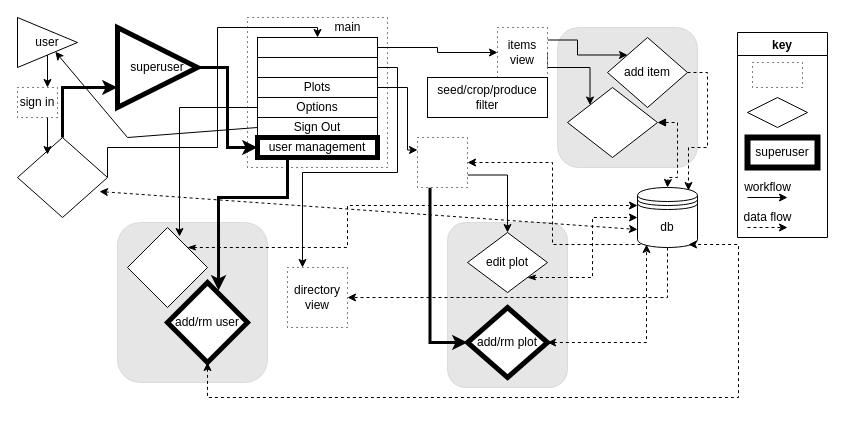
This 845x424 diagram has some shape labels left out. Each missing label, with the box of its shape:
action: (746, 96, 808, 128)
authenticate: (16, 136, 108, 218)
Directory: (256, 56, 378, 78)
edit user: (126, 226, 208, 308)
edit/rm item: (566, 86, 658, 158)
Farm Inventory: (256, 36, 378, 58)
plots view: (416, 136, 468, 188)
view: (752, 62, 802, 88)
